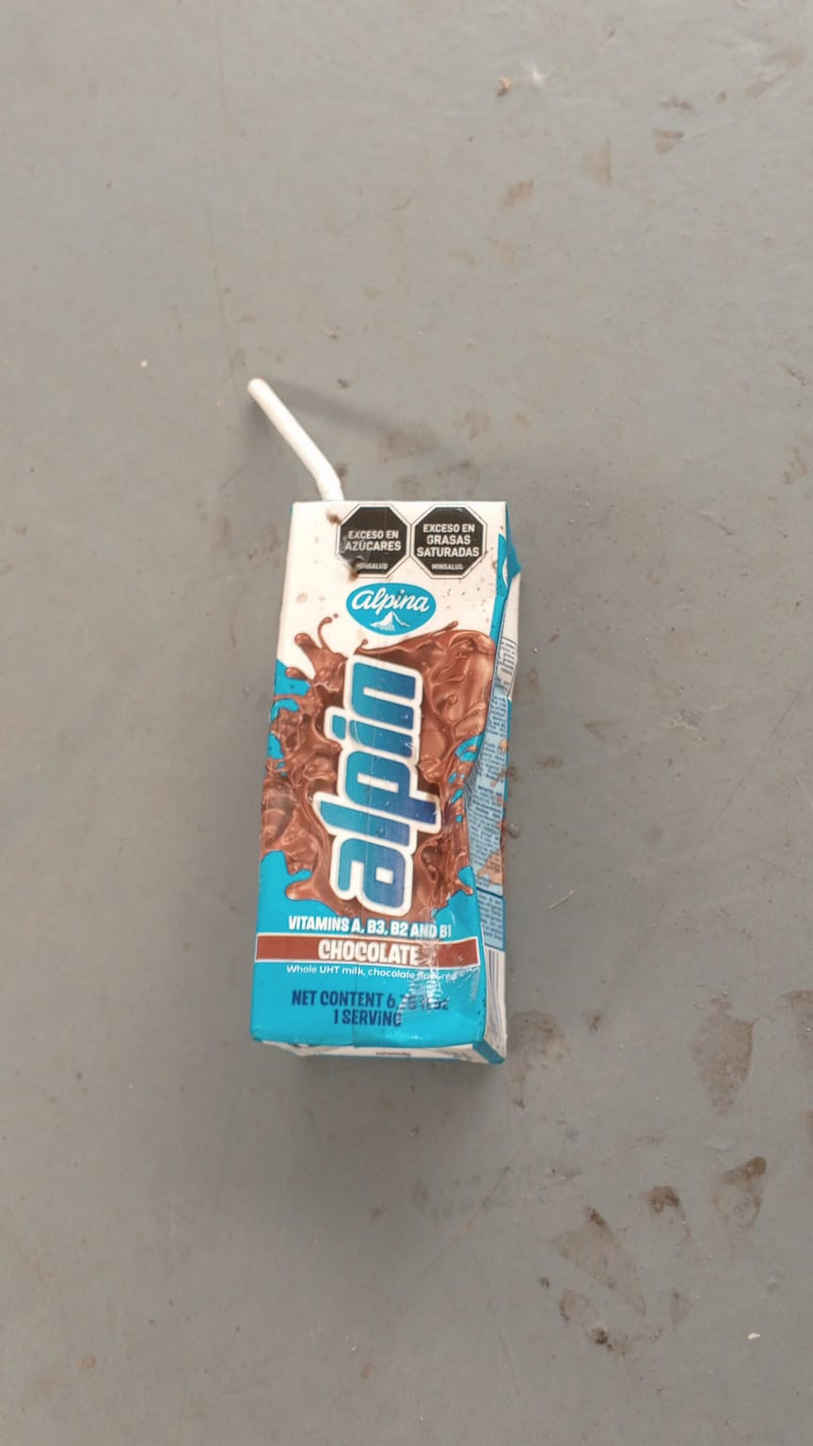Carton: (254, 496, 522, 1067)
